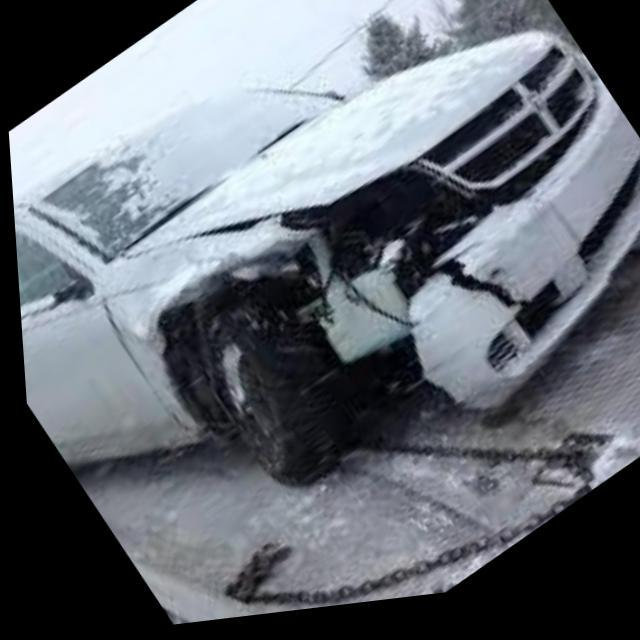no part: (106, 106, 593, 448)
